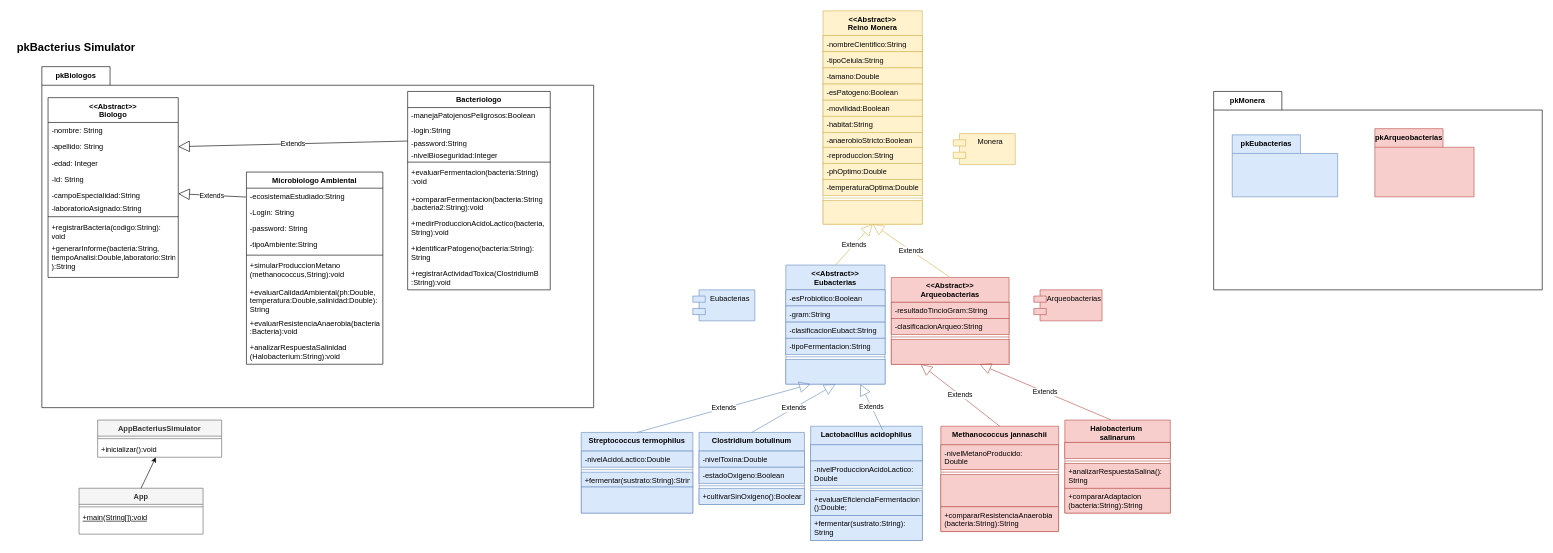
Some shapes in this 1553 by 553 pixel diagram are drawn without their labels. Here are the shapes that lost their labels. From the top down, the centre of each, then its label:
the point at 872,212: +alimentarse(comida:String): String
the point at 835,371: +reaccionarAntibiotico (antibiotico:String):Boolean
the point at 950,351: +seAdaptaCondicionAnaerobica ():Boolean
the point at 866,452: -tipoAzucarFermentado:String
the point at 1117,450: -nivelSalinidadOptima:Double
the point at 637,499: +comparaFermentacion (otraBacteria:String):String
the point at 999,490: +generarMetano(hayCO2: Boolean, hayH2:Boolean): Boolean
